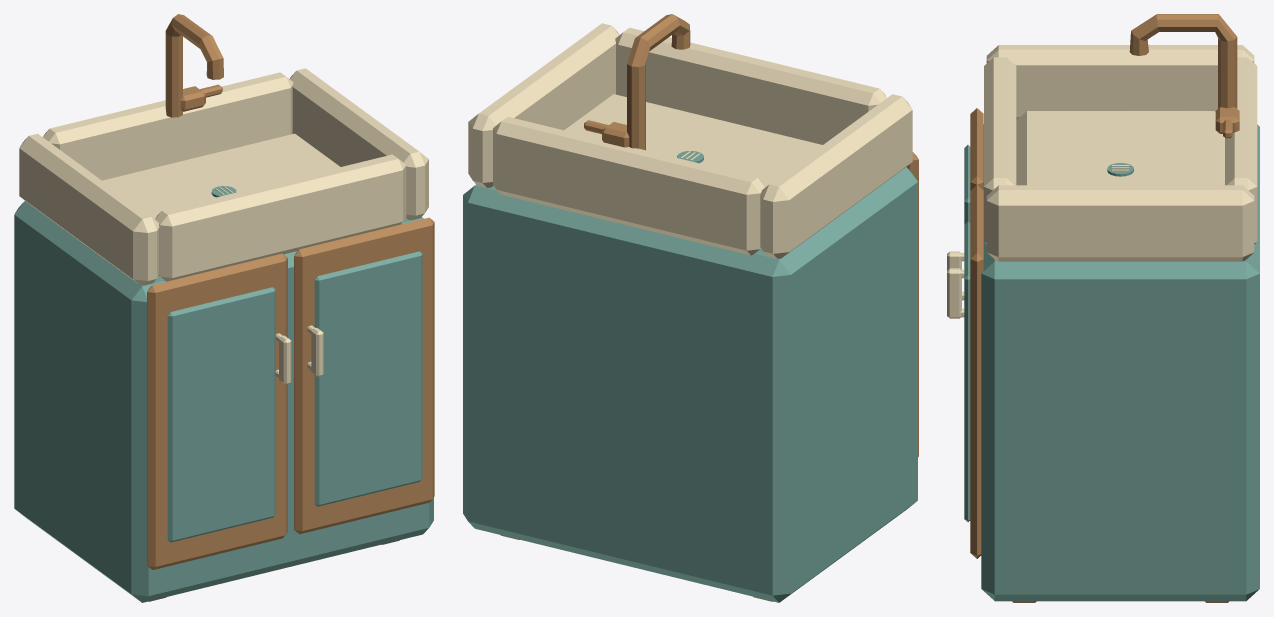
3 views of the same model, side by side, from view 1: azimuth 30°, elevation 25°; view 2: azimuth 150°, elevation 25°; view 3: azimuth 270°, elevation 25° (orthographic). The views are drawn at different scales.
Parts seen in each view (by area): view 1: kitchen-sink-cabinet-01; view 2: kitchen-sink-cabinet-01; view 3: kitchen-sink-cabinet-01.
Boxes of the visible parts, x1,y1,x2,y2 form: kitchen-sink-cabinet-01: (14, 14, 434, 602); kitchen-sink-cabinet-01: (463, 14, 918, 602); kitchen-sink-cabinet-01: (947, 14, 1259, 602).
Bounding box in the file's own units: 0.7 × 1.08 × 0.584.
